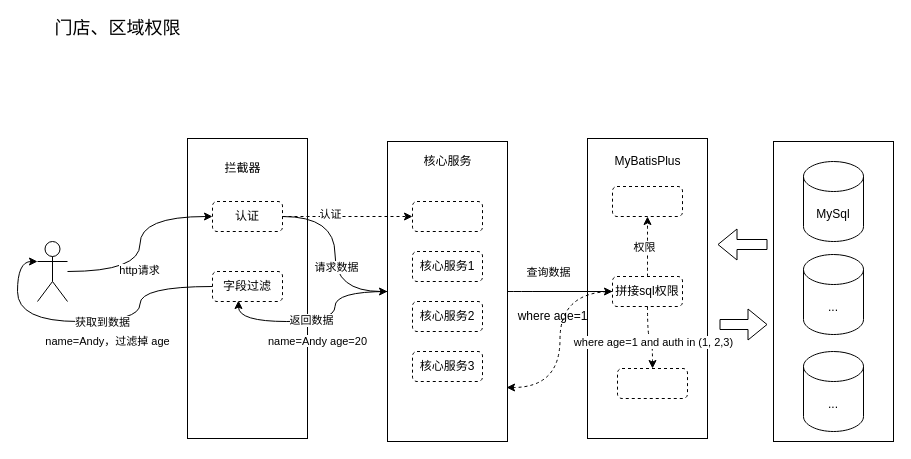
Image size: 911x459. Some labels were removed from this diagram. Each missing label, with the centre of its shape:
Actor: (x=52, y=271)
sql执行器: (x=652, y=383)
当前用户权限: (x=647, y=201)
用户服务: (x=447, y=216)
